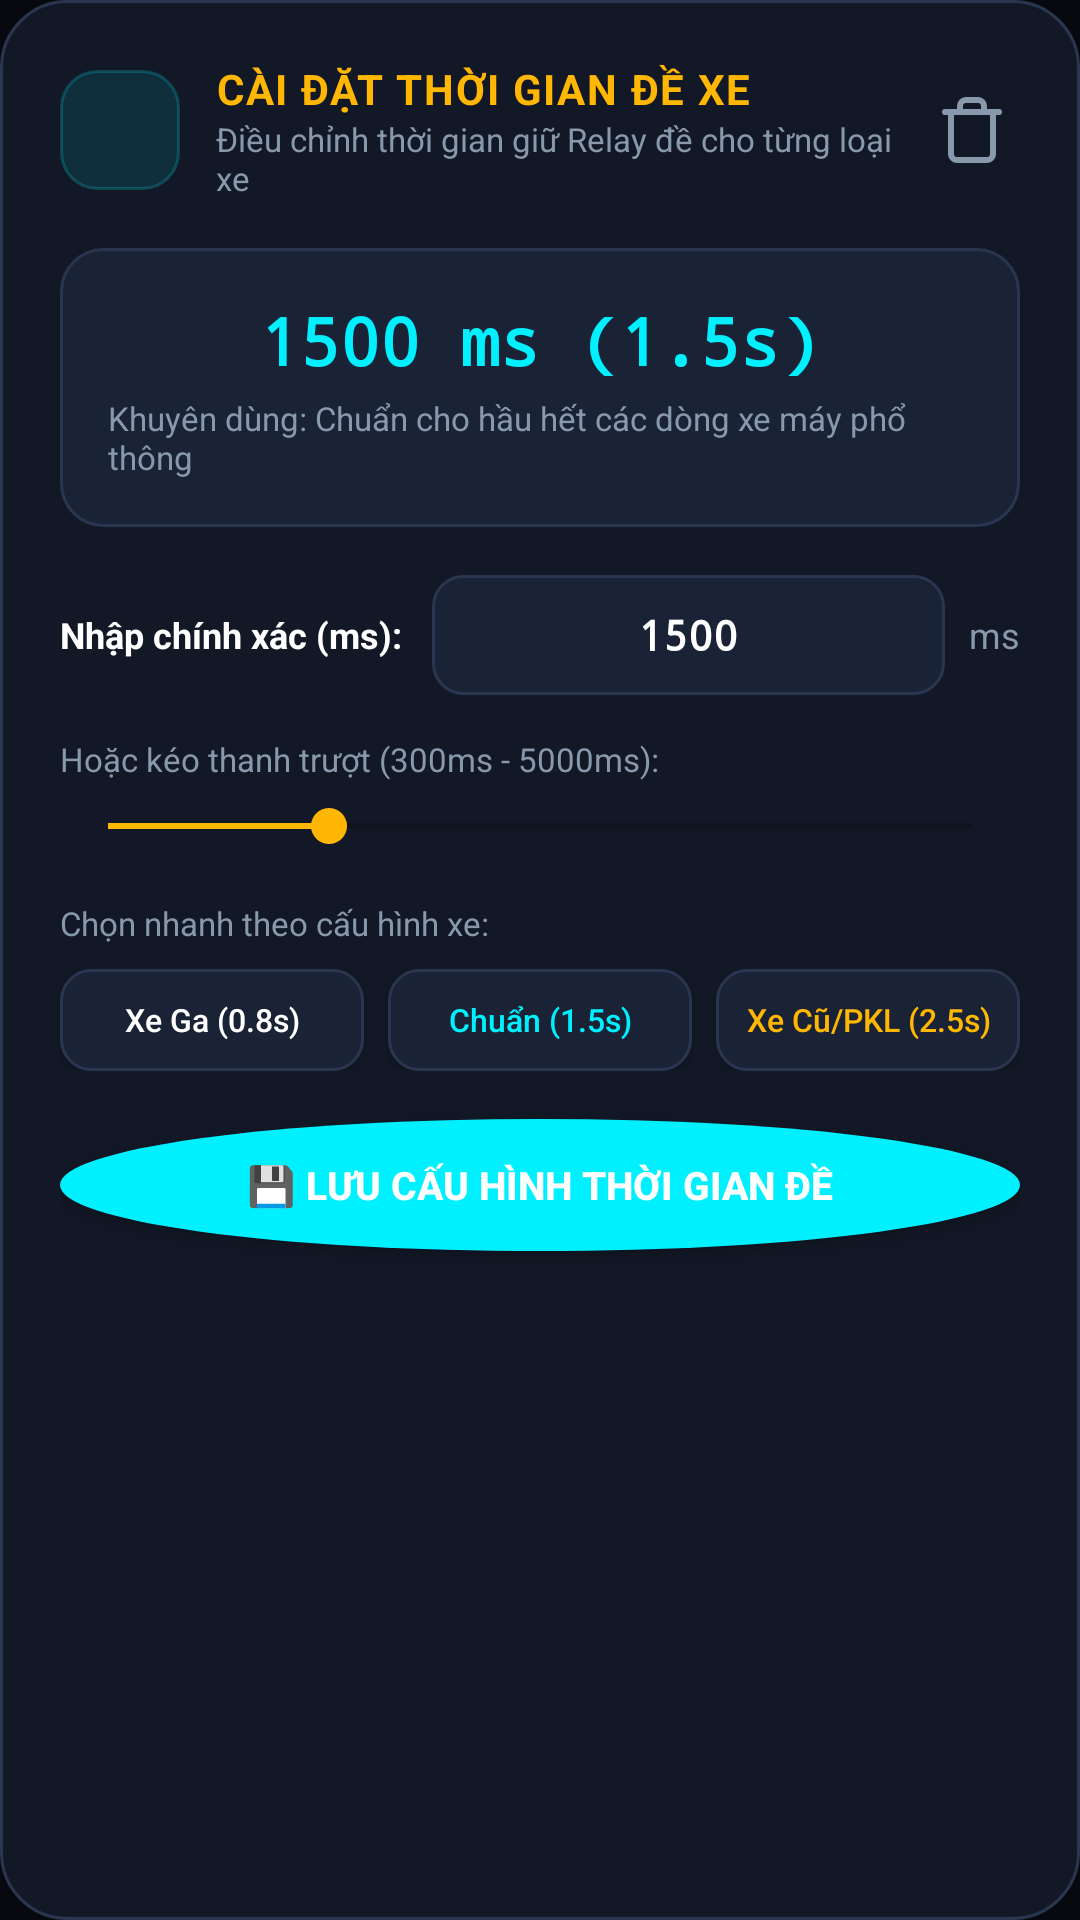

Icon bounding boxes for this 1080 x 1920 phone screenshot, format (x1, y1, x2, y2):
delete: (942, 97, 1002, 163)
